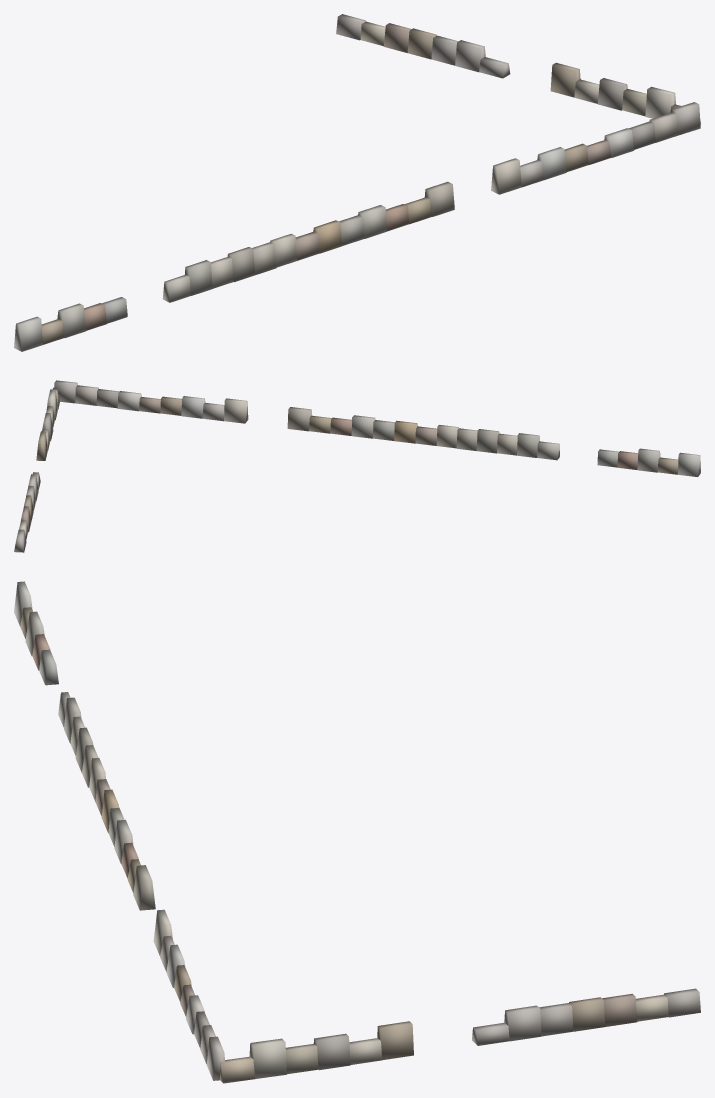
Rendered from farm_15_-1_collision.glb.
3 renders of one model, top to bottom at view 1: azimuth 30°, elevation 25°; view 2: azimuth 150°, elevation 25°; view 3: azimuth 270°, elevation 25°, orthographic. The views are drawn at different scales.
Parts seen in each view (by area): view 1: geometry_0; view 2: geometry_0; view 3: geometry_0.
Part boxes in pixels (x1,y1,x2,y2): geometry_0: [14, 14, 700, 351]; geometry_0: [14, 380, 700, 552]; geometry_0: [14, 581, 700, 1083].
Size of the model in its own units: 47.18 by 3.83 by 30.89.
